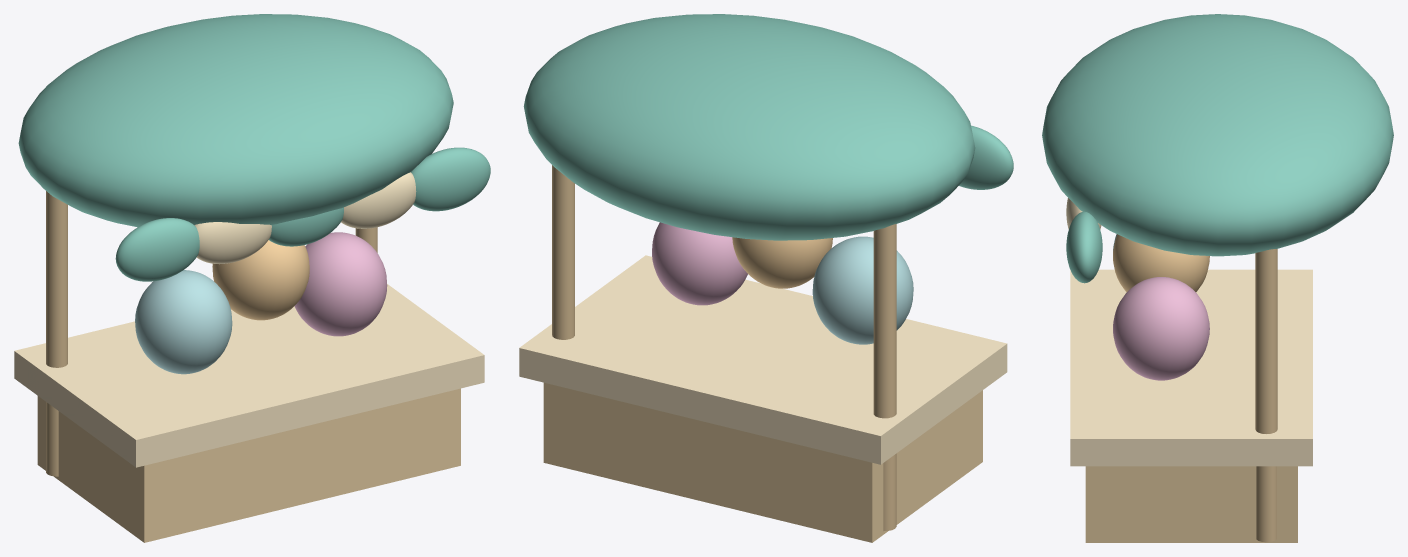
Rendered from fair-bubble-meadow.glb.
The picture shows the model from 3 angles, left to right: view 1: azimuth 30°, elevation 25°; view 2: azimuth 150°, elevation 25°; view 3: azimuth 270°, elevation 25°; orthographic projection. The views are drawn at different scales.
Parts seen in each view (by area): view 1: fair-bubble-meadow; view 2: fair-bubble-meadow; view 3: fair-bubble-meadow.
Boxes of the visible parts, x1,y1,x2,y2 form: fair-bubble-meadow: (14, 14, 490, 542); fair-bubble-meadow: (519, 14, 1013, 542); fair-bubble-meadow: (1042, 14, 1393, 542).
Bounding box in the file's own units: 2.26 × 2.21 × 1.74.
